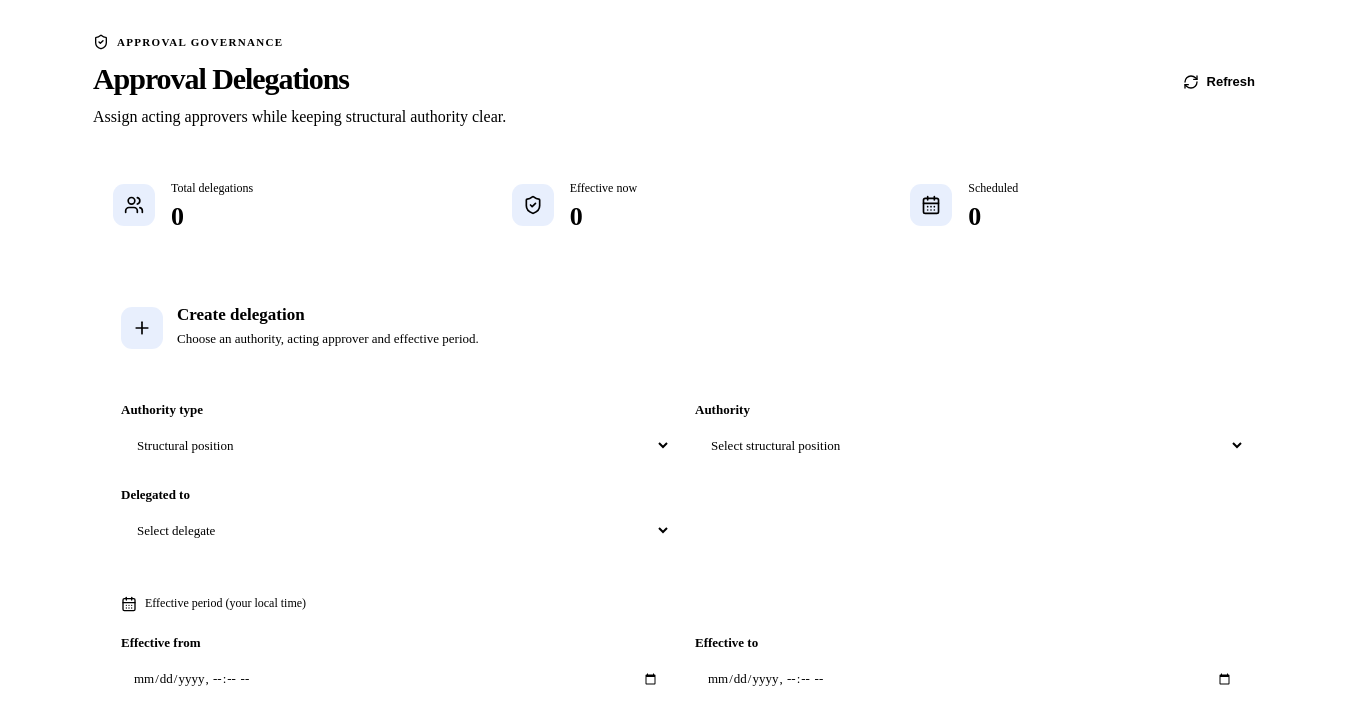
it: user-based delegation submits its delegator and displays backend errors
This screenshot has width=1366, height=709.
Expected: the heading "Create delegation" is shown, [177,305,305,324]
Step 1. Select "User" in the dropdown labelled "Authority type" → (396, 446), box [121,426,671,465]
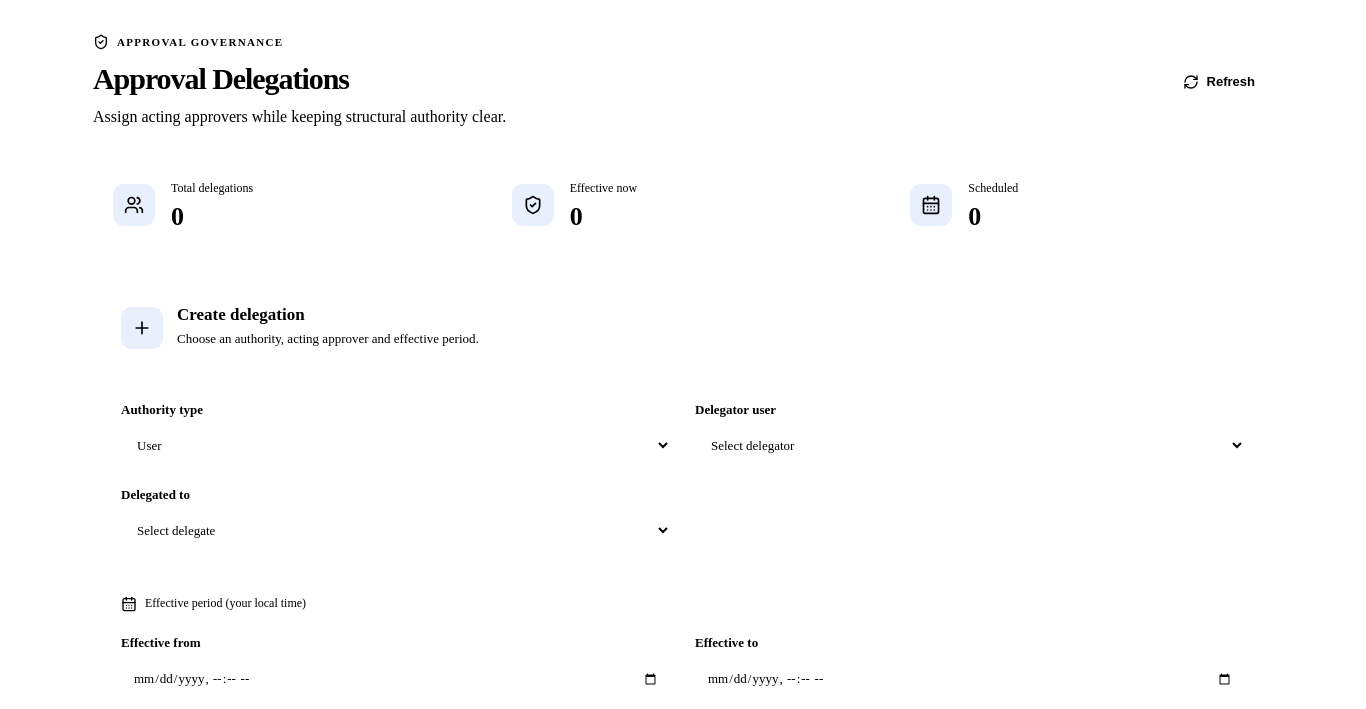
Step 2. Select "COO user" in the dropdown labelled "Delegator user" → (970, 446), box [695,426,1245,465]
Step 3. Select "COO user" in the dropdown labelled "Delegated to" → (396, 531), box [121,511,671,550]
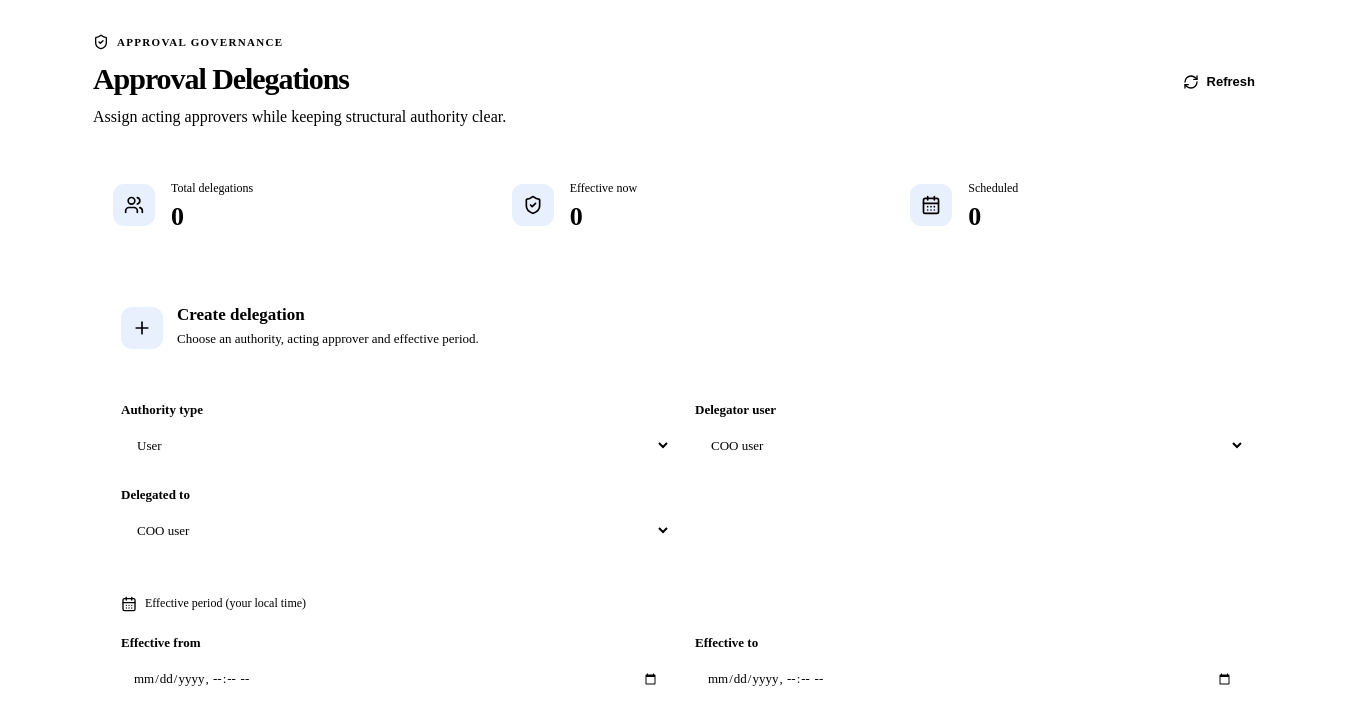
Step 4. Type "2026-10-10T00:00" into the field labelled "Effective from" → (396, 679), box [121,659,671,699]
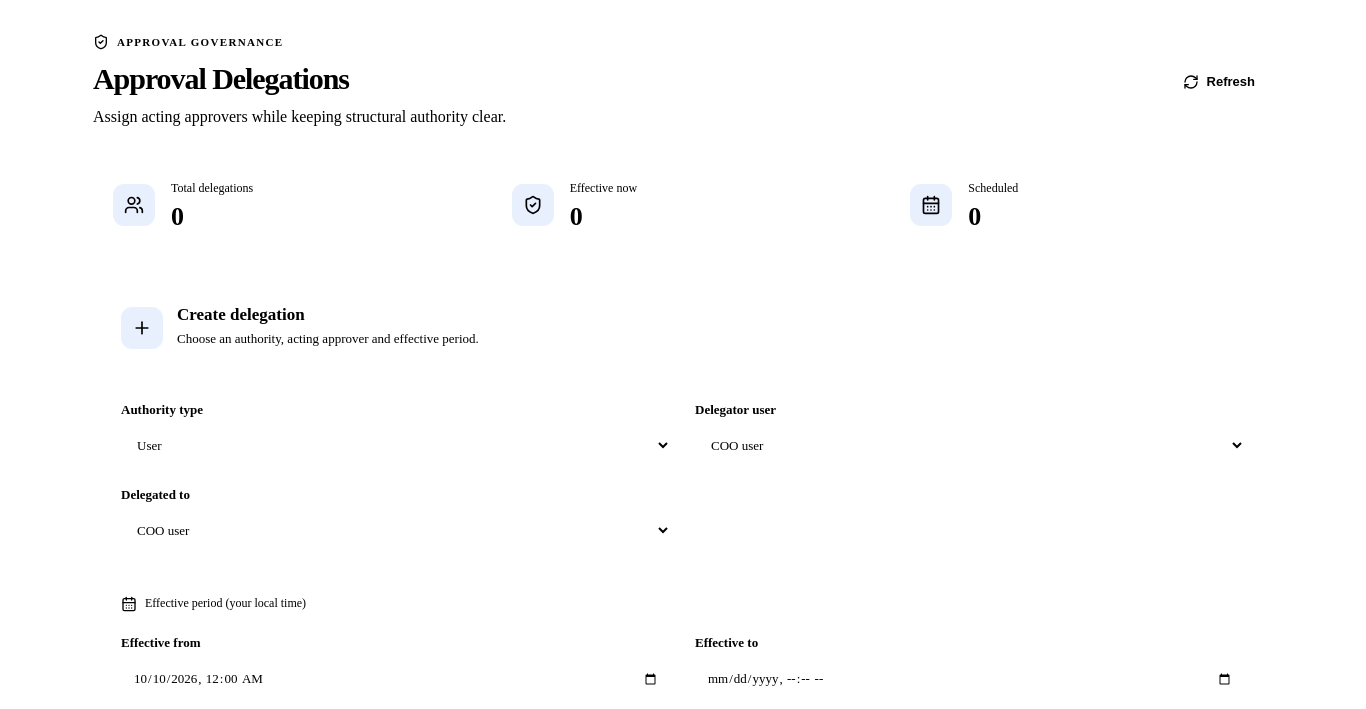
Step 5. Type "2026-10-20T00:00" into the field labelled "Effective to" → (970, 679), box [695,659,1245,699]
(page scrolled)
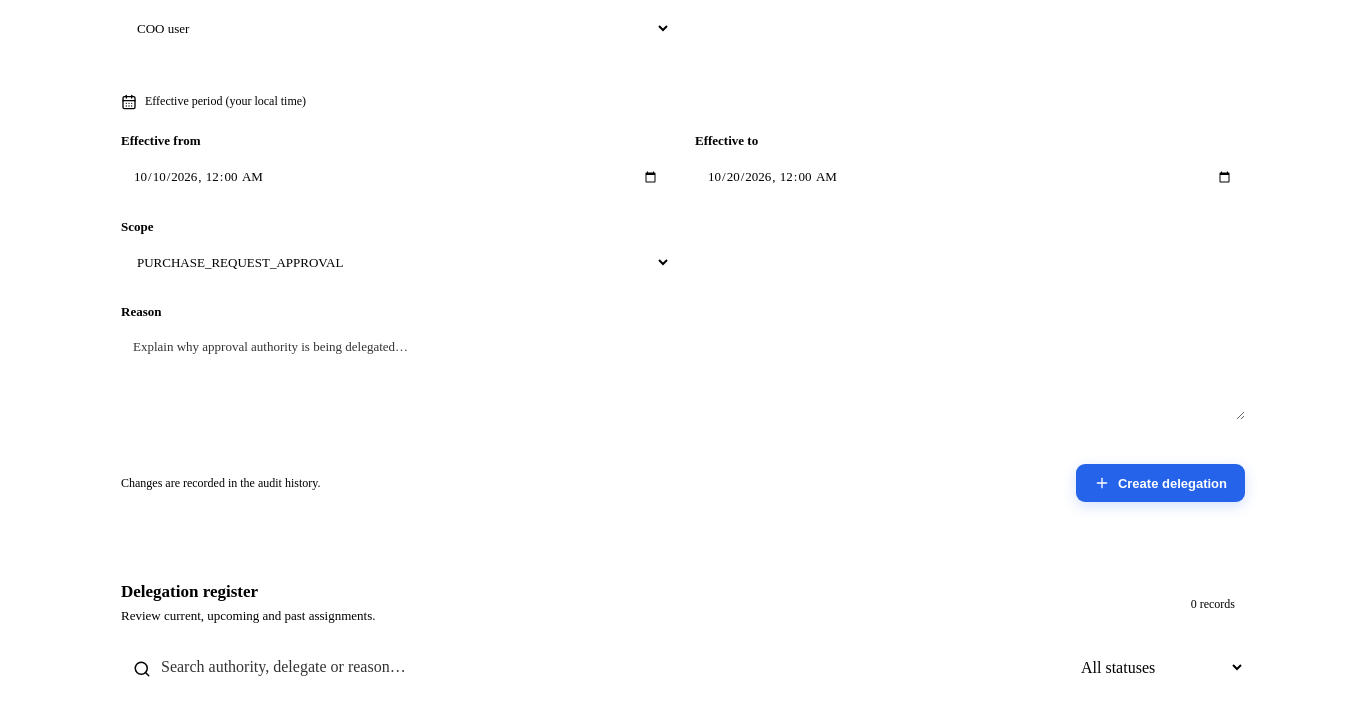
Step 6. Type "Purchase authority" into the text box labelled "Reason" → (683, 374), box [121,328,1245,420]
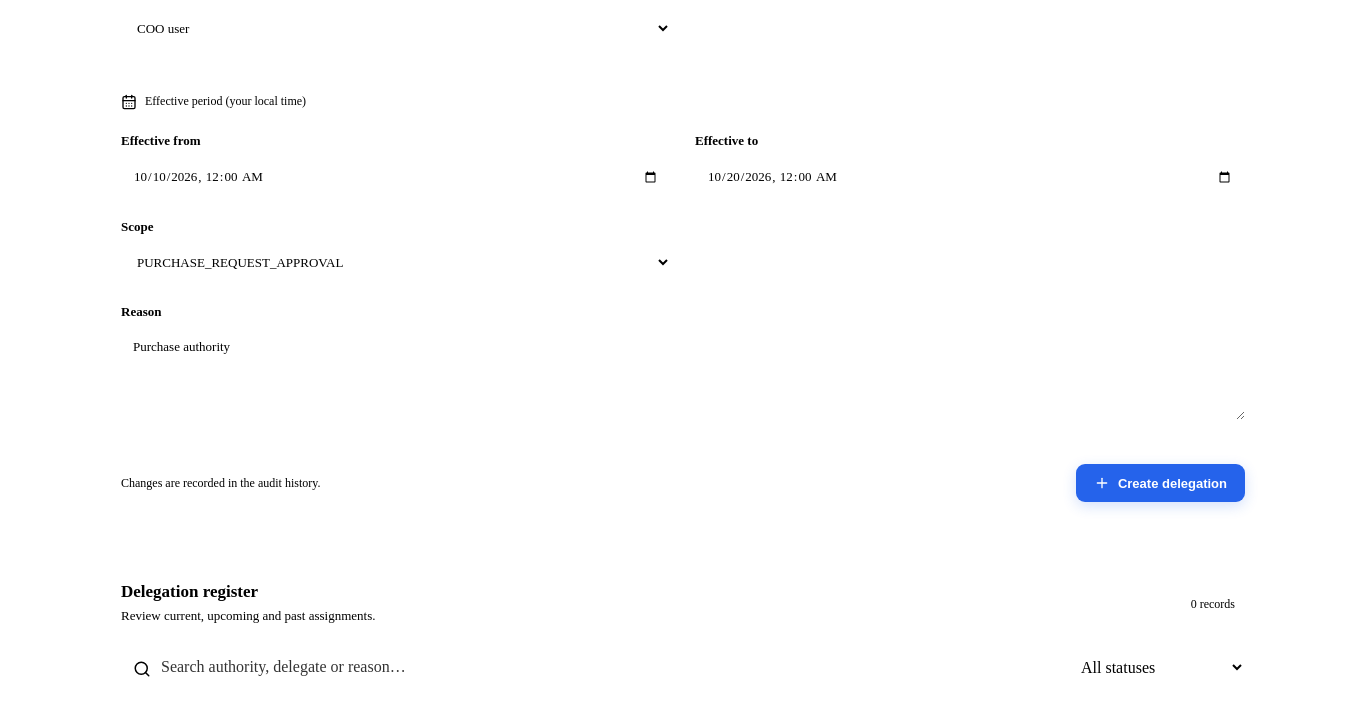
Step 7. Click the button "Create delegation" → (1160, 483), box [1076,464,1245,502]
(page scrolled)
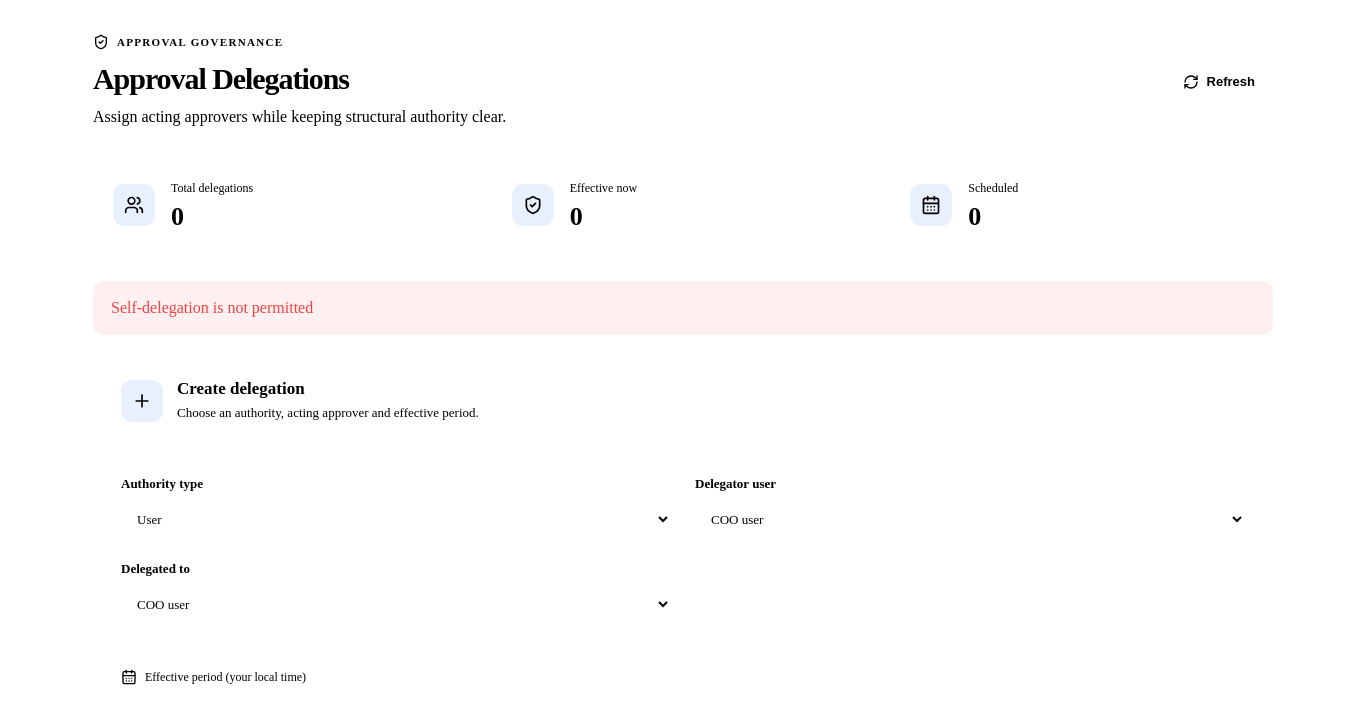
Now the message reads "Self-delegation is not permitted", box [111,299,313,316]
